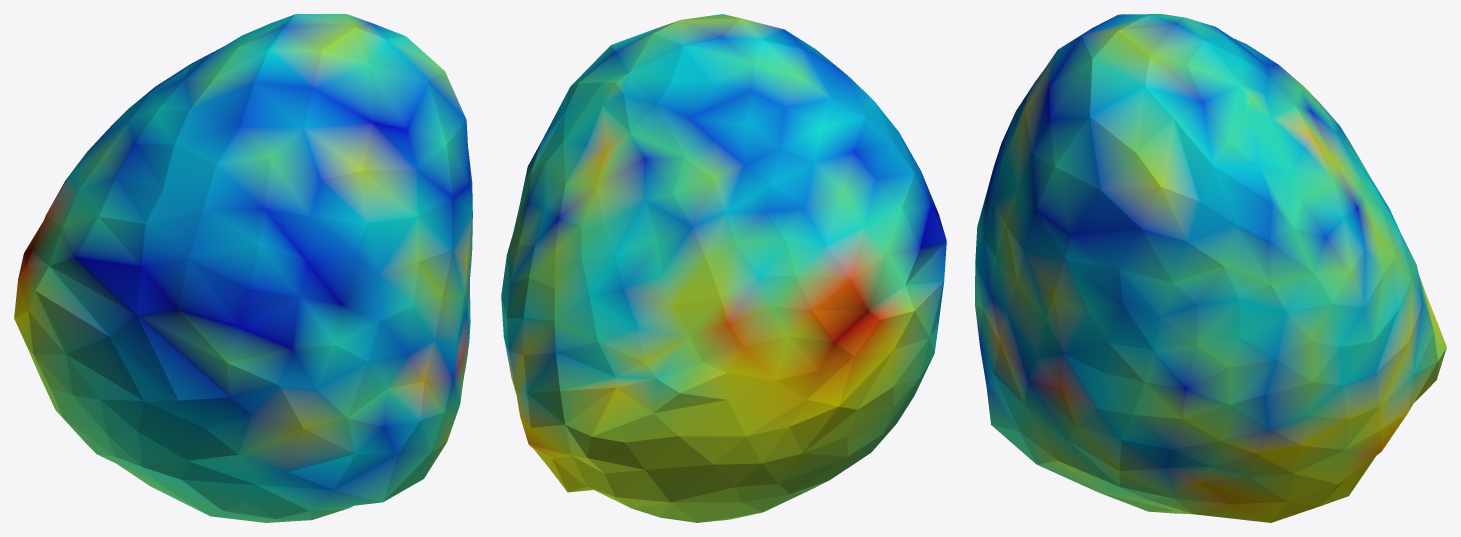
Rendered from heartwithColor105.obj.
3 views of the same model, side by side, from view 1: azimuth 30°, elevation 25°; view 2: azimuth 150°, elevation 25°; view 3: azimuth 270°, elevation 25° (orthographic). The views are drawn at different scales.
Size of the model in its own units: 71.7 by 81.16 by 72.94.
